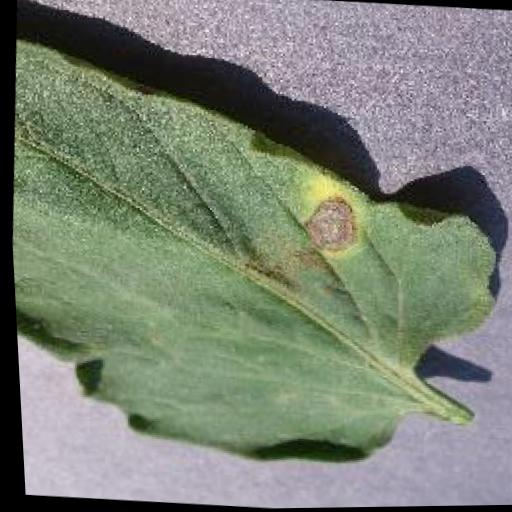Early Blight: (2, 31, 512, 478)
